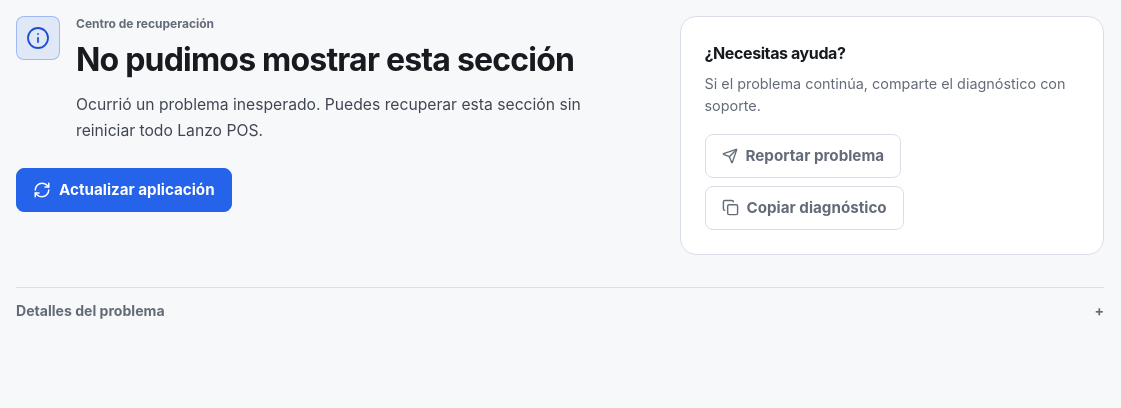
Test case: ErrorBoundary › reports an update action that resolves without applying the new worker
Click the button "Actualizar aplicación".
click(124, 190)  # box [16,168,232,212]
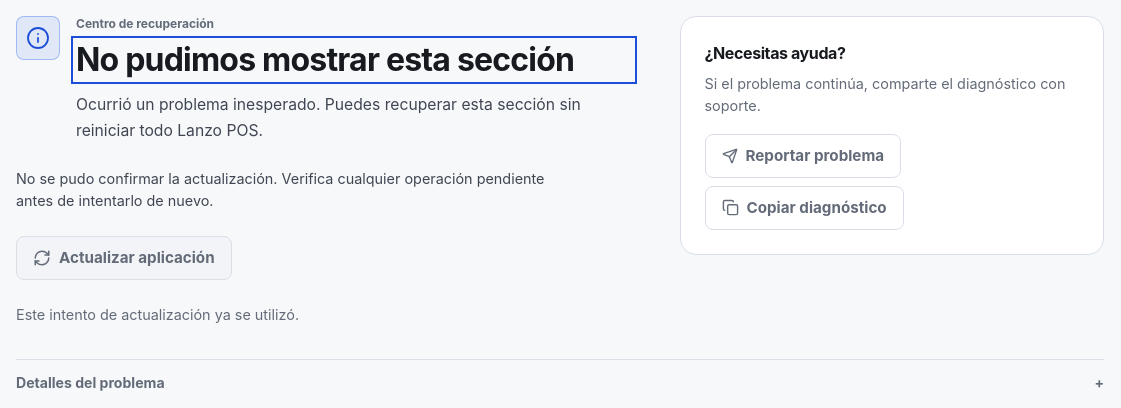
Result: the text "No se pudo confirmar la actualización" is shown at [16,170,544,209]
Result: the button "Actualizar aplicación" is disabled at [16,236,232,280]
